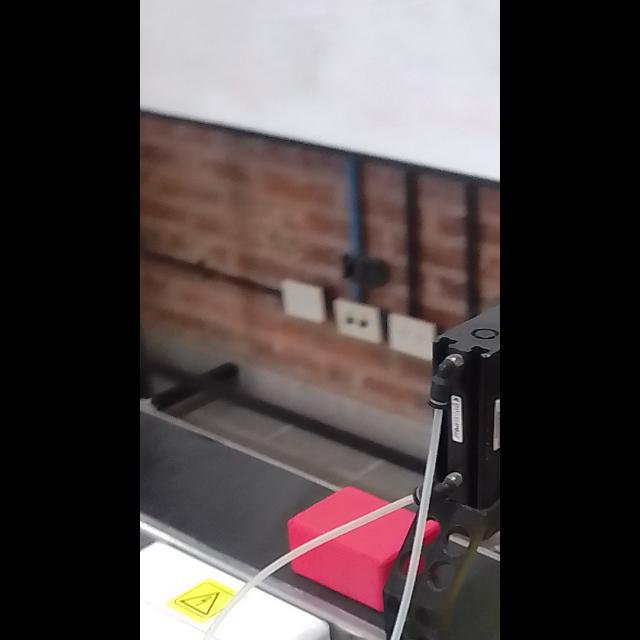redBox: (262, 479, 446, 625)
yellowBox: (496, 554, 499, 640)
